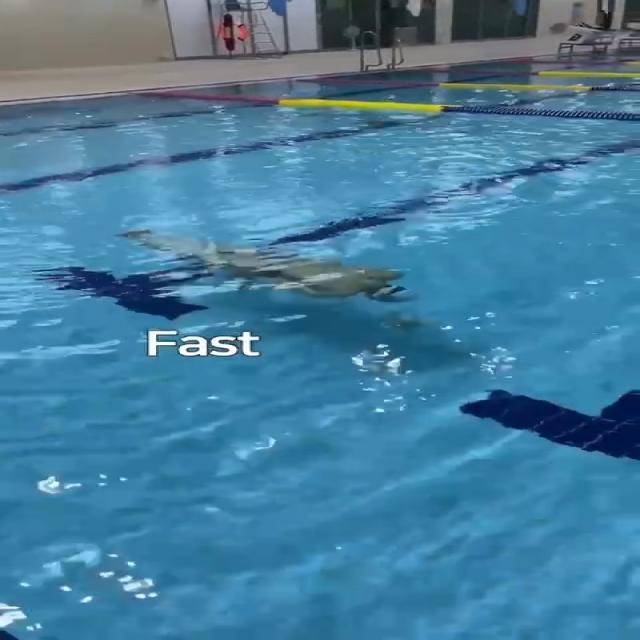Swimming: (107, 211, 433, 311)
